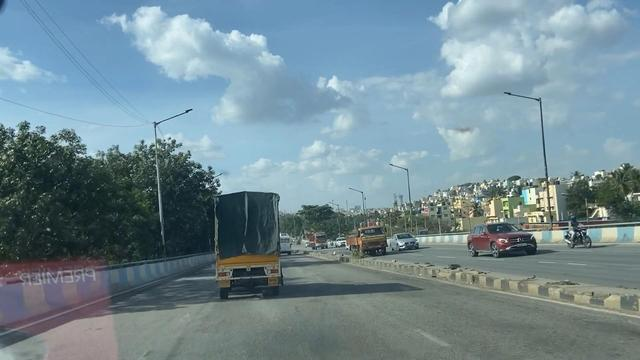HMV: (202, 186, 296, 301)
RoadDamages: (121, 331, 214, 360)
